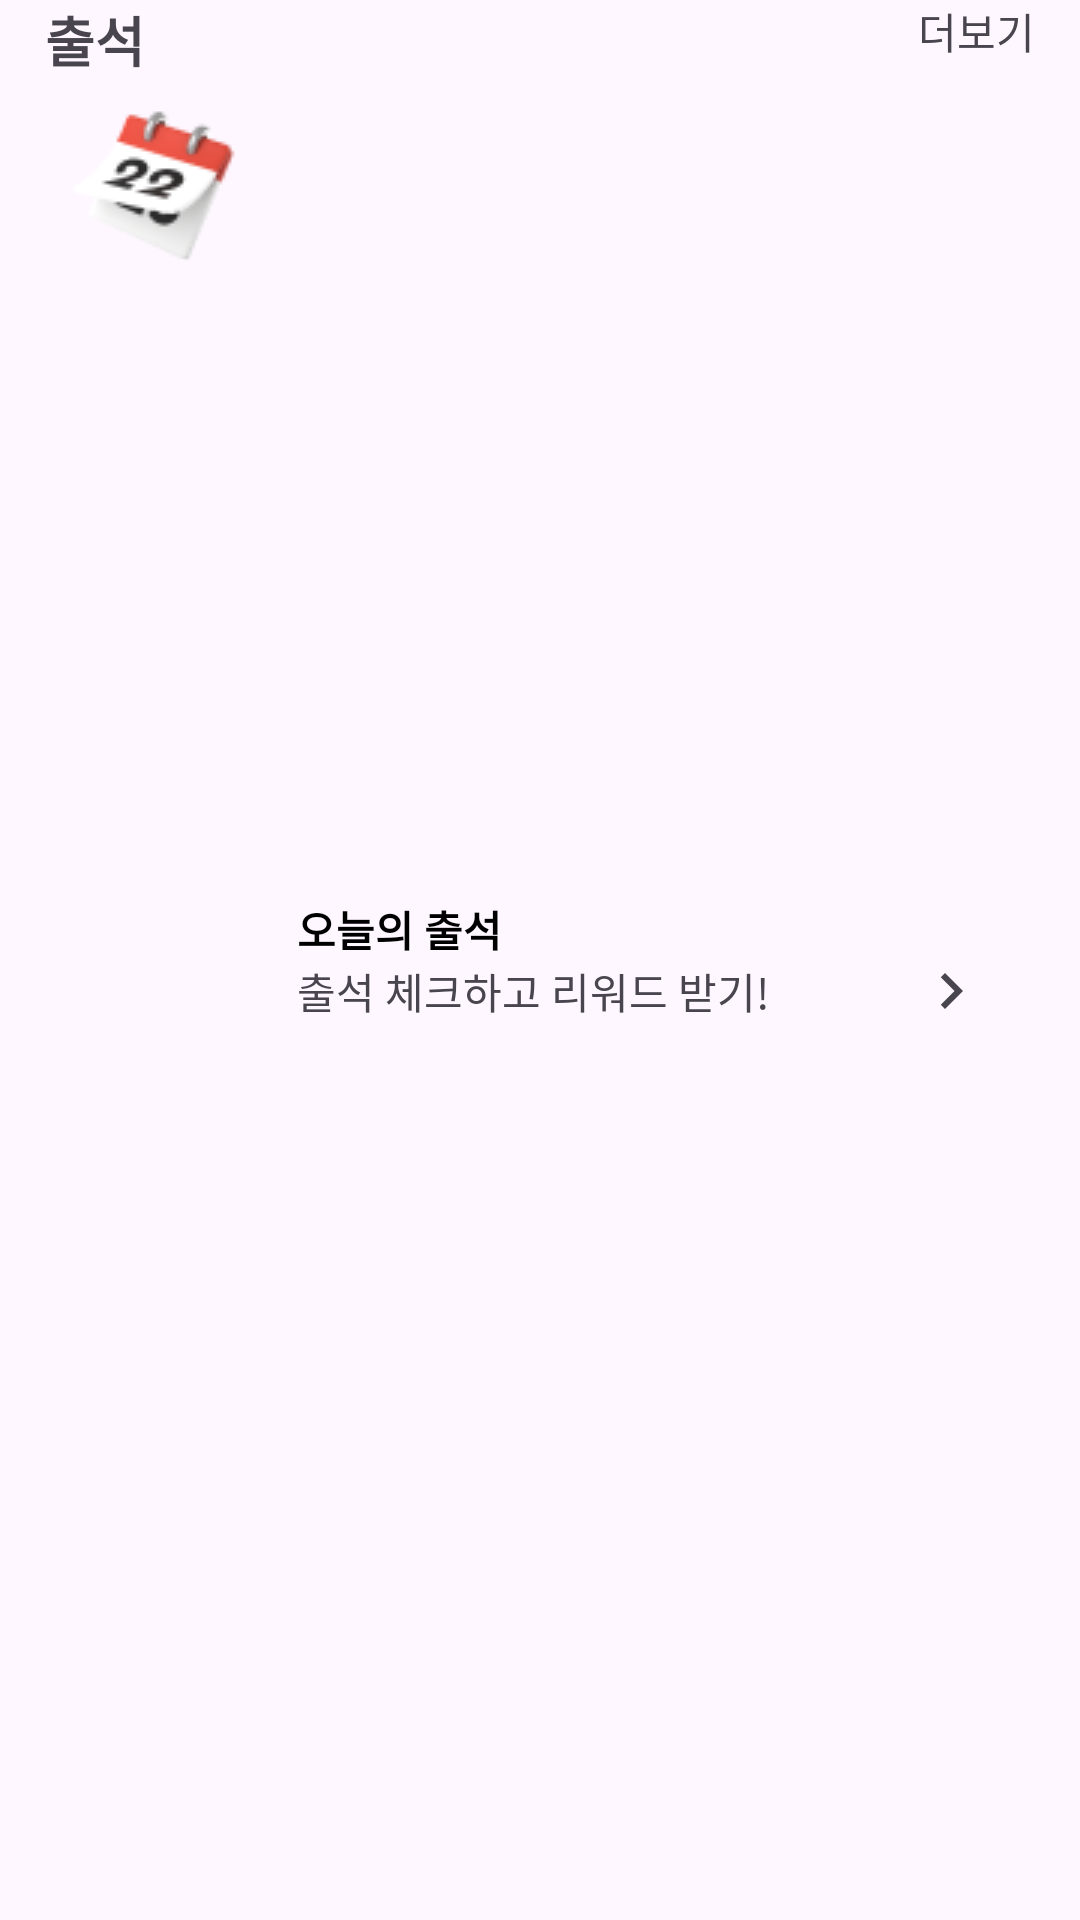

Where icons sit on this 1080*1920 app screen, as (x1, y1, x2, y2):
calendar: (102, 111, 234, 259)
chevron right: (941, 973, 963, 1009)
